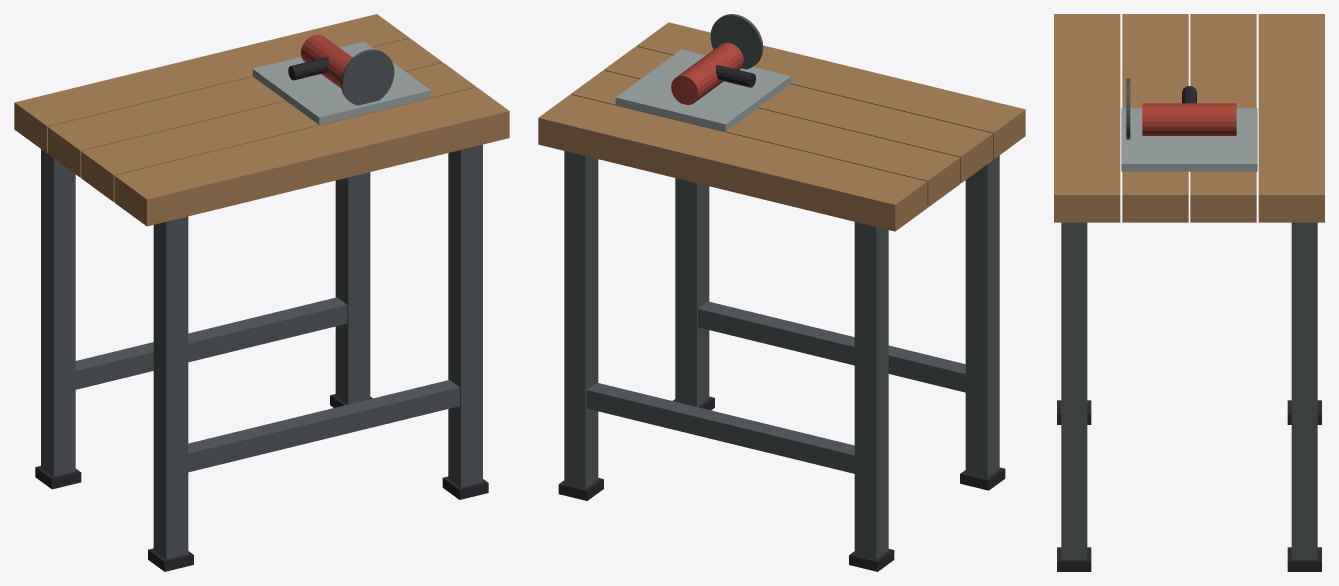
Rendered from SHOP_GrinderStation.glb.
3 views of the same model, side by side, from view 1: azimuth 30°, elevation 25°; view 2: azimuth 150°, elevation 25°; view 3: azimuth 270°, elevation 25° (orthographic). The views are drawn at different scales.
Parts seen in each view (by area): view 1: TopPlanks, Frame, Stretchers, ClampingPlate, CuttingDisc, Feet, Motor, ToolGrip; view 2: TopPlanks, Frame, Stretchers, ClampingPlate, Motor, Feet, CuttingDisc; view 3: TopPlanks, Frame, ClampingPlate, Motor, Feet.
Boxes of the visible parts, x1=… form: TopPlanks: x1=14, y1=14, x2=509, y2=226; Frame: x1=41, y1=144, x2=482, y2=559; Stretchers: x1=75, y1=297, x2=459, y2=472; ClampingPlate: x1=252, y1=41, x2=430, y2=124; CuttingDisc: x1=340, y1=49, x2=394, y2=105; Feet: x1=35, y1=394, x2=488, y2=571; Motor: x1=300, y1=34, x2=352, y2=88; ToolGrip: x1=288, y1=57, x2=329, y2=80; TopPlanks: x1=538, y1=22, x2=1025, y2=231; Frame: x1=564, y1=151, x2=999, y2=559; Stretchers: x1=587, y1=301, x2=965, y2=473; ClampingPlate: x1=615, y1=49, x2=791, y2=131; Motor: x1=671, y1=42, x2=743, y2=104; Feet: x1=558, y1=396, x2=1005, y2=571; CuttingDisc: x1=710, y1=14, x2=763, y2=69; TopPlanks: x1=1054, y1=14, x2=1324, y2=222; Frame: x1=1061, y1=222, x2=1317, y2=559; ClampingPlate: x1=1121, y1=108, x2=1257, y2=171; Motor: x1=1142, y1=103, x2=1236, y2=135; Feet: x1=1057, y1=400, x2=1321, y2=571.
Size of the model in its own units: 0.91 by 1.05 by 0.576.
